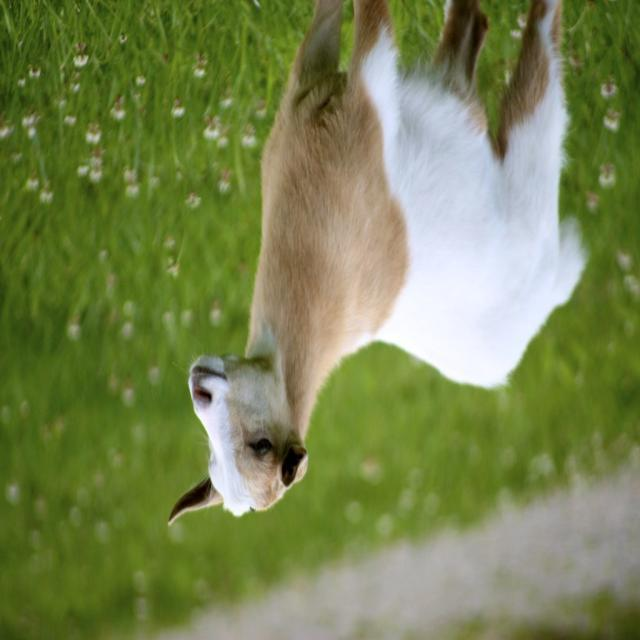Goat: (167, 2, 589, 527)
